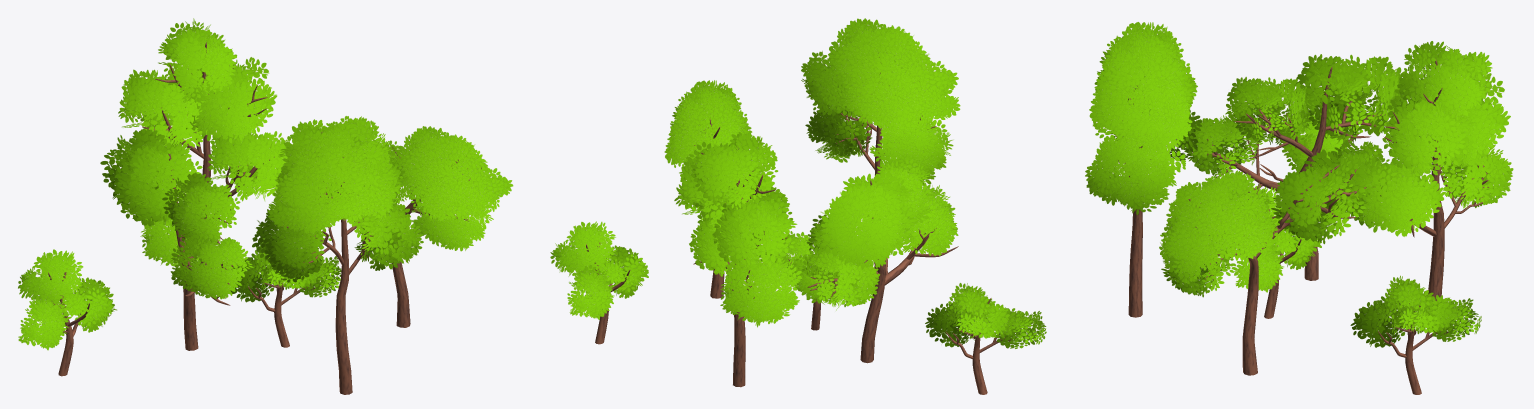
Rendered from Trees.glb.
3 views of the same model, side by side, from view 1: azimuth 30°, elevation 25°; view 2: azimuth 150°, elevation 25°; view 3: azimuth 270°, elevation 25° (orthographic). The views are drawn at different scales.
Parts seen in each view (by area): view 1: NormalTree_1, NormalTree_2, NormalTree_3, NormalTree_4, NormalTree_5, NormalTree_5.002; view 2: NormalTree_1, NormalTree_2, NormalTree_3, NormalTree_5.001, NormalTree_5, NormalTree_4, NormalTree_5.002; view 3: NormalTree_2, NormalTree_4, NormalTree_1, NormalTree_3, NormalTree_5.001, NormalTree_5.002, NormalTree_5.
Part boxes in pixels (x1,y1,x2,y2): NormalTree_1: [252, 116, 423, 394]; NormalTree_2: [118, 18, 292, 268]; NormalTree_3: [100, 128, 253, 350]; NormalTree_4: [278, 119, 513, 327]; NormalTree_5: [18, 249, 116, 376]; NormalTree_5.002: [230, 238, 341, 347]; NormalTree_1: [801, 18, 960, 268]; NormalTree_2: [674, 132, 801, 387]; NormalTree_3: [801, 158, 958, 363]; NormalTree_5.001: [550, 221, 648, 344]; NormalTree_5: [925, 282, 1046, 394]; NormalTree_4: [664, 80, 752, 298]; NormalTree_5.002: [759, 214, 841, 330]; NormalTree_2: [1352, 41, 1513, 300]; NormalTree_4: [1159, 149, 1370, 375]; NormalTree_1: [1085, 22, 1202, 317]; NormalTree_3: [1184, 54, 1410, 280]; NormalTree_5.001: [1350, 275, 1481, 394]; NormalTree_5.002: [1234, 186, 1321, 318]; NormalTree_5: [1271, 102, 1369, 172].
Size of the model in its own units: 12.07 by 6.88 by 9.54.
6 materials, 6 textured.
